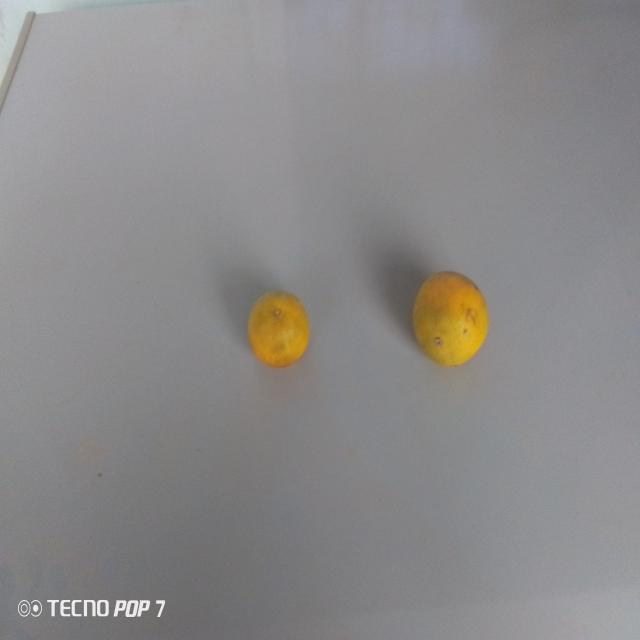Ripe orange: (408, 259, 496, 372), (242, 282, 315, 374)
